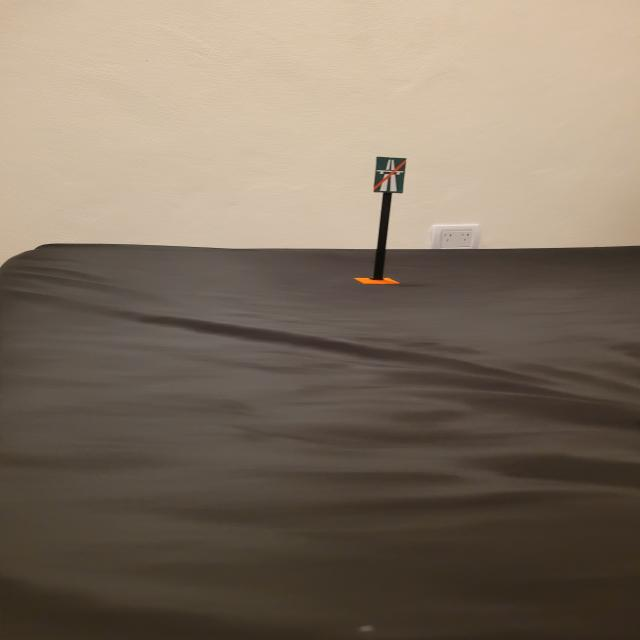highway_exit: (374, 156, 405, 194)
